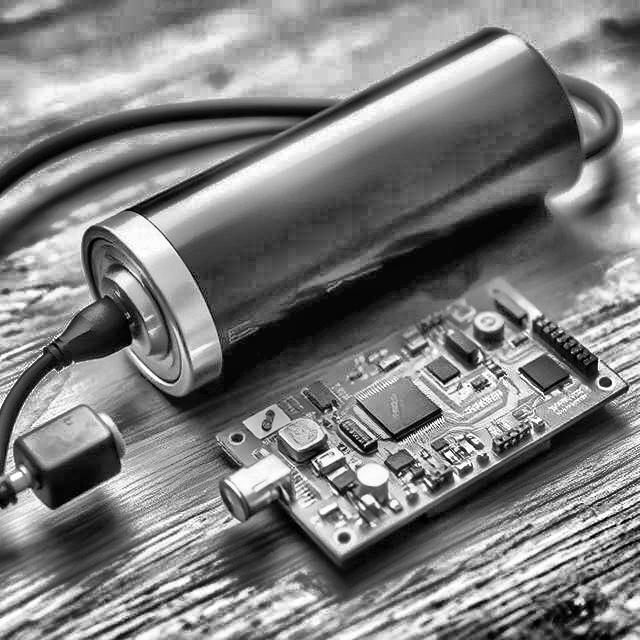Battery: (80, 26, 591, 392)
Cable: (0, 73, 622, 194), (0, 284, 132, 523)
PCB: (214, 275, 630, 574)
